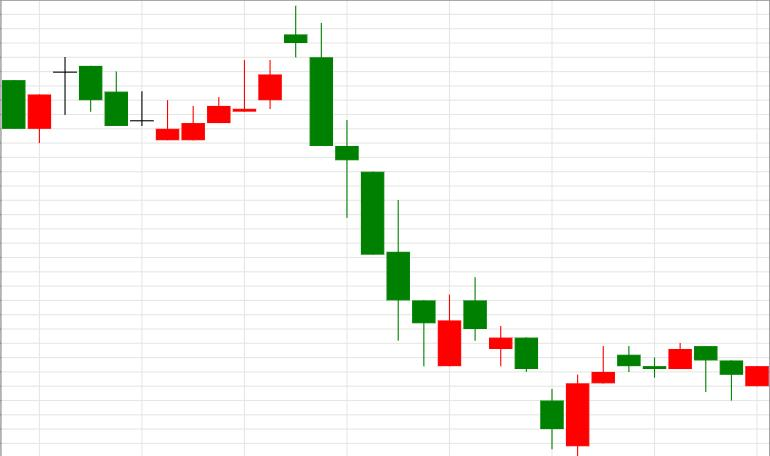bullish_engulfing_rise: (284, 4, 588, 456)
evening_star_fall: (156, 5, 334, 145)
